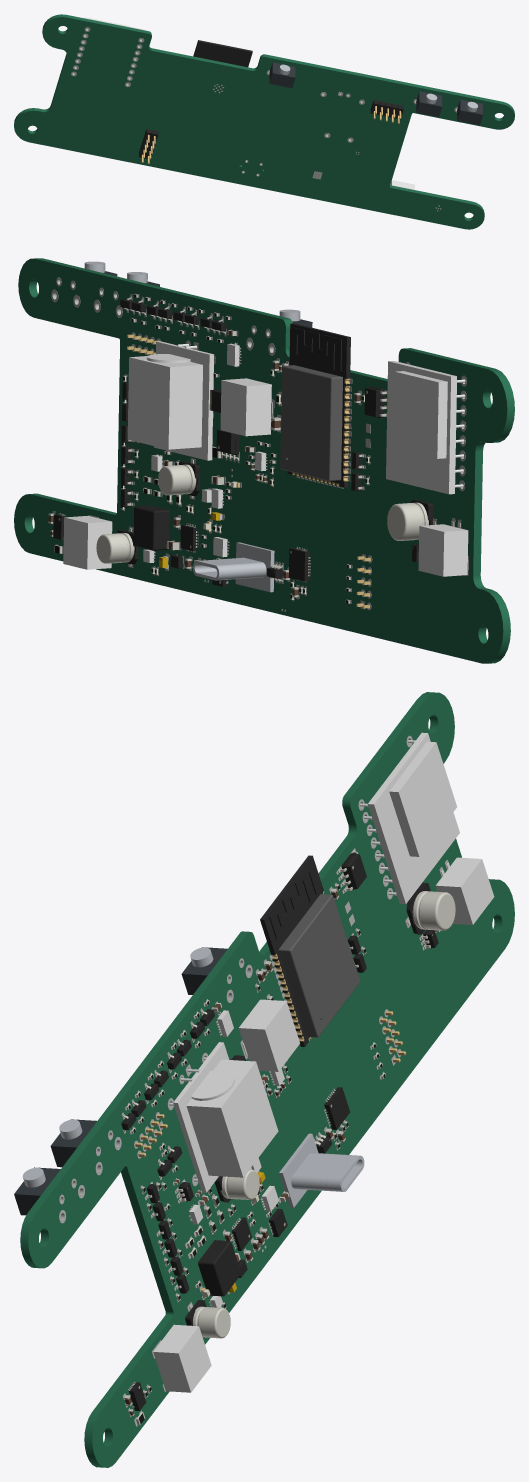
Rendered from main_board.glb.
3 views of the same model, one above another, from view 1: azimuth 30°, elevation 25°; view 2: azimuth 150°, elevation 25°; view 3: azimuth 270°, elevation 25° (orthographic). The views are drawn at different scales.
Visible parts, largest first — view 1: main_=>[0:1:1:44].001, main_U11.001, main_=>[0:1:1:43].001, main_J4.001, BTN0_switch_body_reference.001, BTN1_switch_body_reference.001, BTN2_switch_body_reference.001, main_J3.001; view 2: main_=>[0:1:1:44].001, main_U11.001, main_U6.001, main_U9.001, main_=>[0:1:1:43].001, main_L4.001, main_LS1.001, USB_measured_reference.001, main_J2.001, main_L3.001, main_C4.001, main_C19.001 (+4 smaller); view 3: main_=>[0:1:1:44].001, main_U11.001, main_U6.001, main_U9.001, main_=>[0:1:1:43].001, USB_measured_reference.001, main_L4.001, main_J2.001, main_LS1.001, main_C4.001, main_L3.001, main_C20.001 (+2 smaller).
Boxes of the visible parts, box(x1,y1,x2,y2) form: main_=>[0:1:1:44].001: box(14, 14, 514, 229); main_U11.001: box(193, 40, 252, 67); main_=>[0:1:1:43].001: box(71, 27, 457, 211); main_J4.001: box(370, 100, 403, 123); BTN0_switch_body_reference.001: box(269, 62, 295, 87); BTN1_switch_body_reference.001: box(416, 91, 442, 116); BTN2_switch_body_reference.001: box(457, 99, 483, 125); main_J3.001: box(139, 129, 158, 163); main_=>[0:1:1:44].001: box(14, 258, 514, 663); main_U11.001: box(280, 323, 350, 487); main_U6.001: box(386, 361, 465, 494); main_U9.001: box(127, 341, 213, 460); main_=>[0:1:1:43].001: box(51, 277, 468, 612); main_L4.001: box(220, 378, 272, 436); main_LS1.001: box(418, 521, 468, 576); USB_measured_reference.001: box(193, 542, 274, 592); main_J2.001: box(63, 515, 112, 569); main_L3.001: box(133, 505, 169, 550); main_C4.001: box(387, 499, 435, 540); main_C19.001: box(158, 459, 200, 498); main_=>[0:1:1:44].001: box(20, 692, 514, 1467); main_U11.001: box(260, 855, 360, 1046); main_U6.001: box(360, 732, 459, 903); main_U9.001: box(169, 1042, 278, 1192); main_=>[0:1:1:43].001: box(59, 735, 448, 1426); USB_measured_reference.001: box(279, 1133, 364, 1207); main_L4.001: box(238, 999, 299, 1071); main_J2.001: box(153, 1324, 211, 1392); main_LS1.001: box(435, 857, 494, 924); main_C4.001: box(406, 882, 455, 934); main_L3.001: box(198, 1240, 241, 1296); main_C20.001: box(185, 1300, 230, 1338).
Size of the model in its own units: 1.81 by 1.06 by 1.05.
